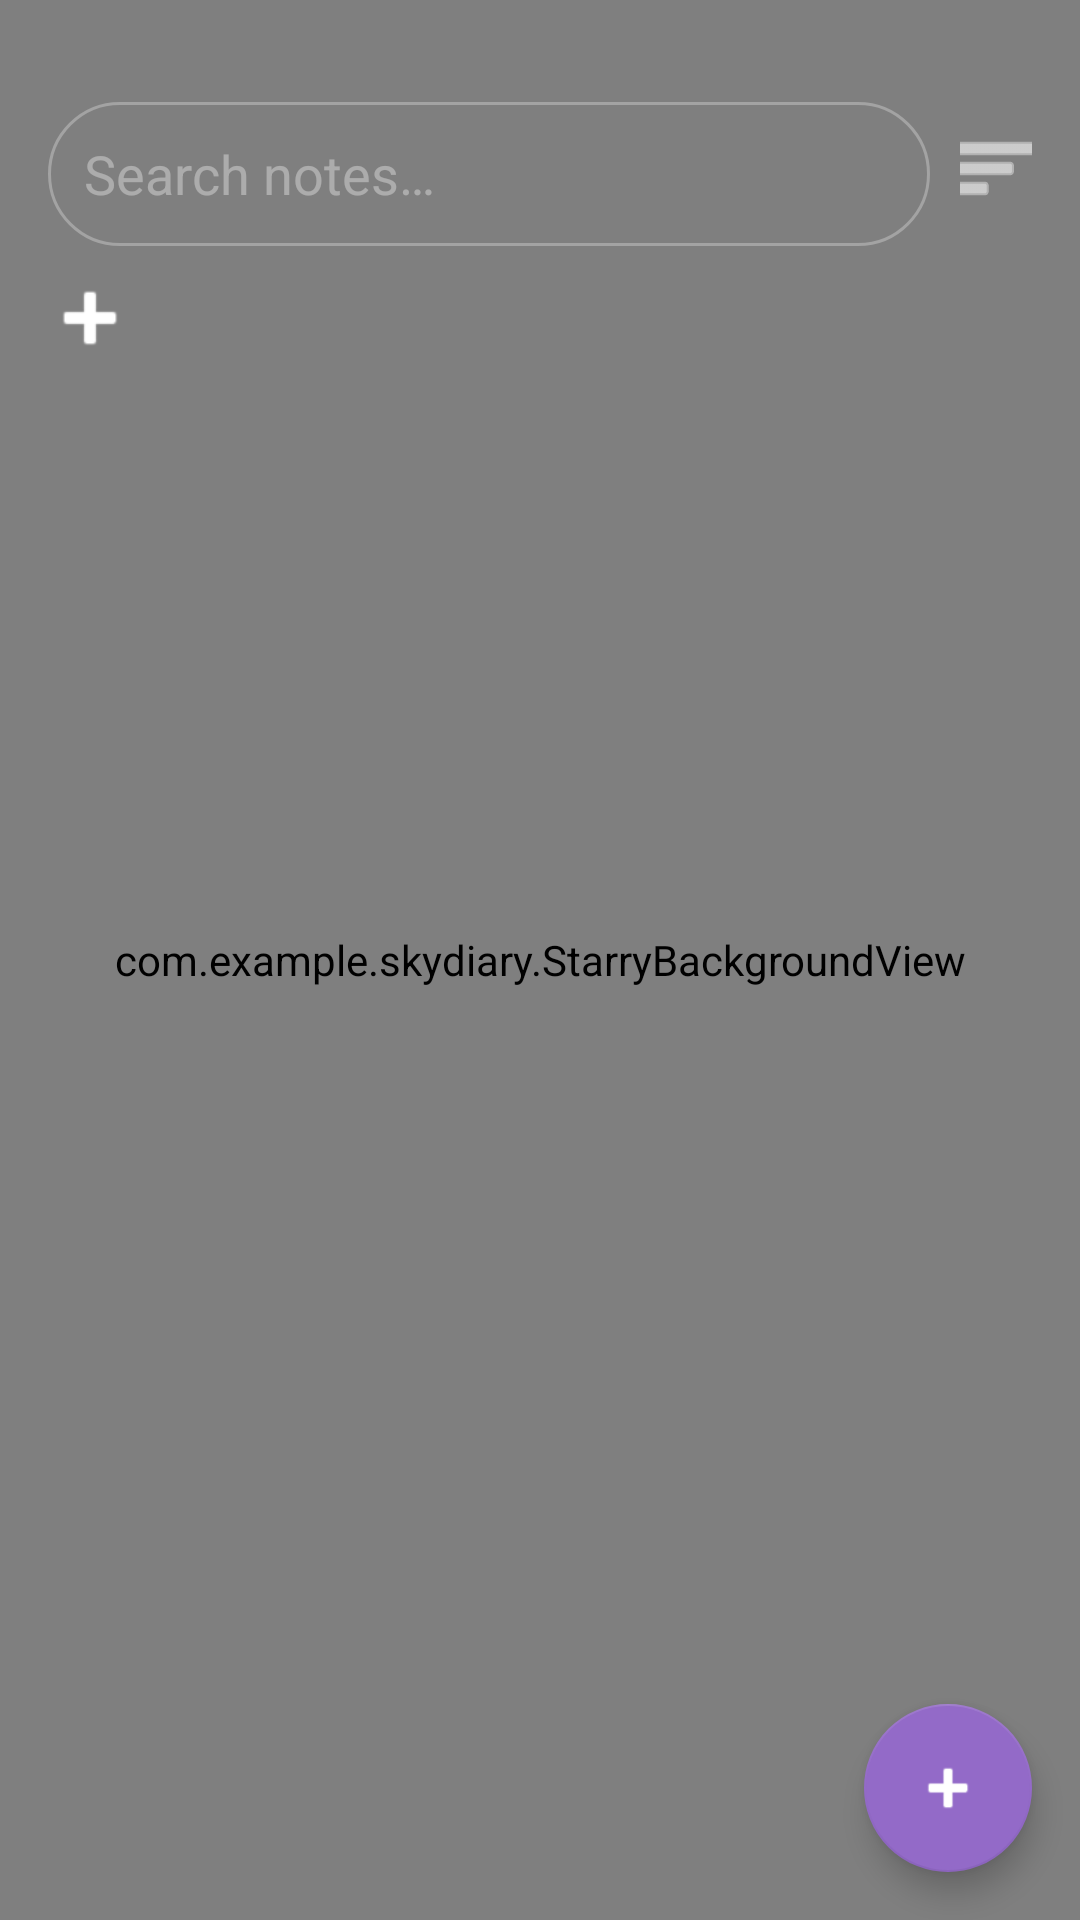

Screen size 1080×1920. Icon name, then its center in pixels as (x=x, y=y):
Add a note: (x=948, y=1788)
Add tag: (x=90, y=318)
Sort notes: (x=996, y=168)
